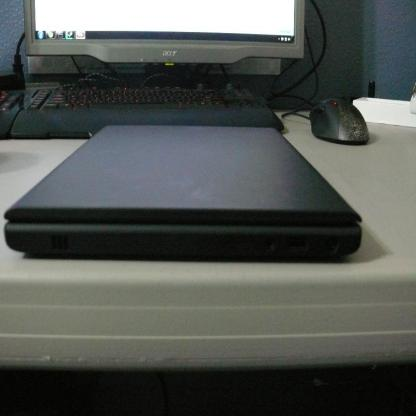board: (4, 125, 362, 257)
